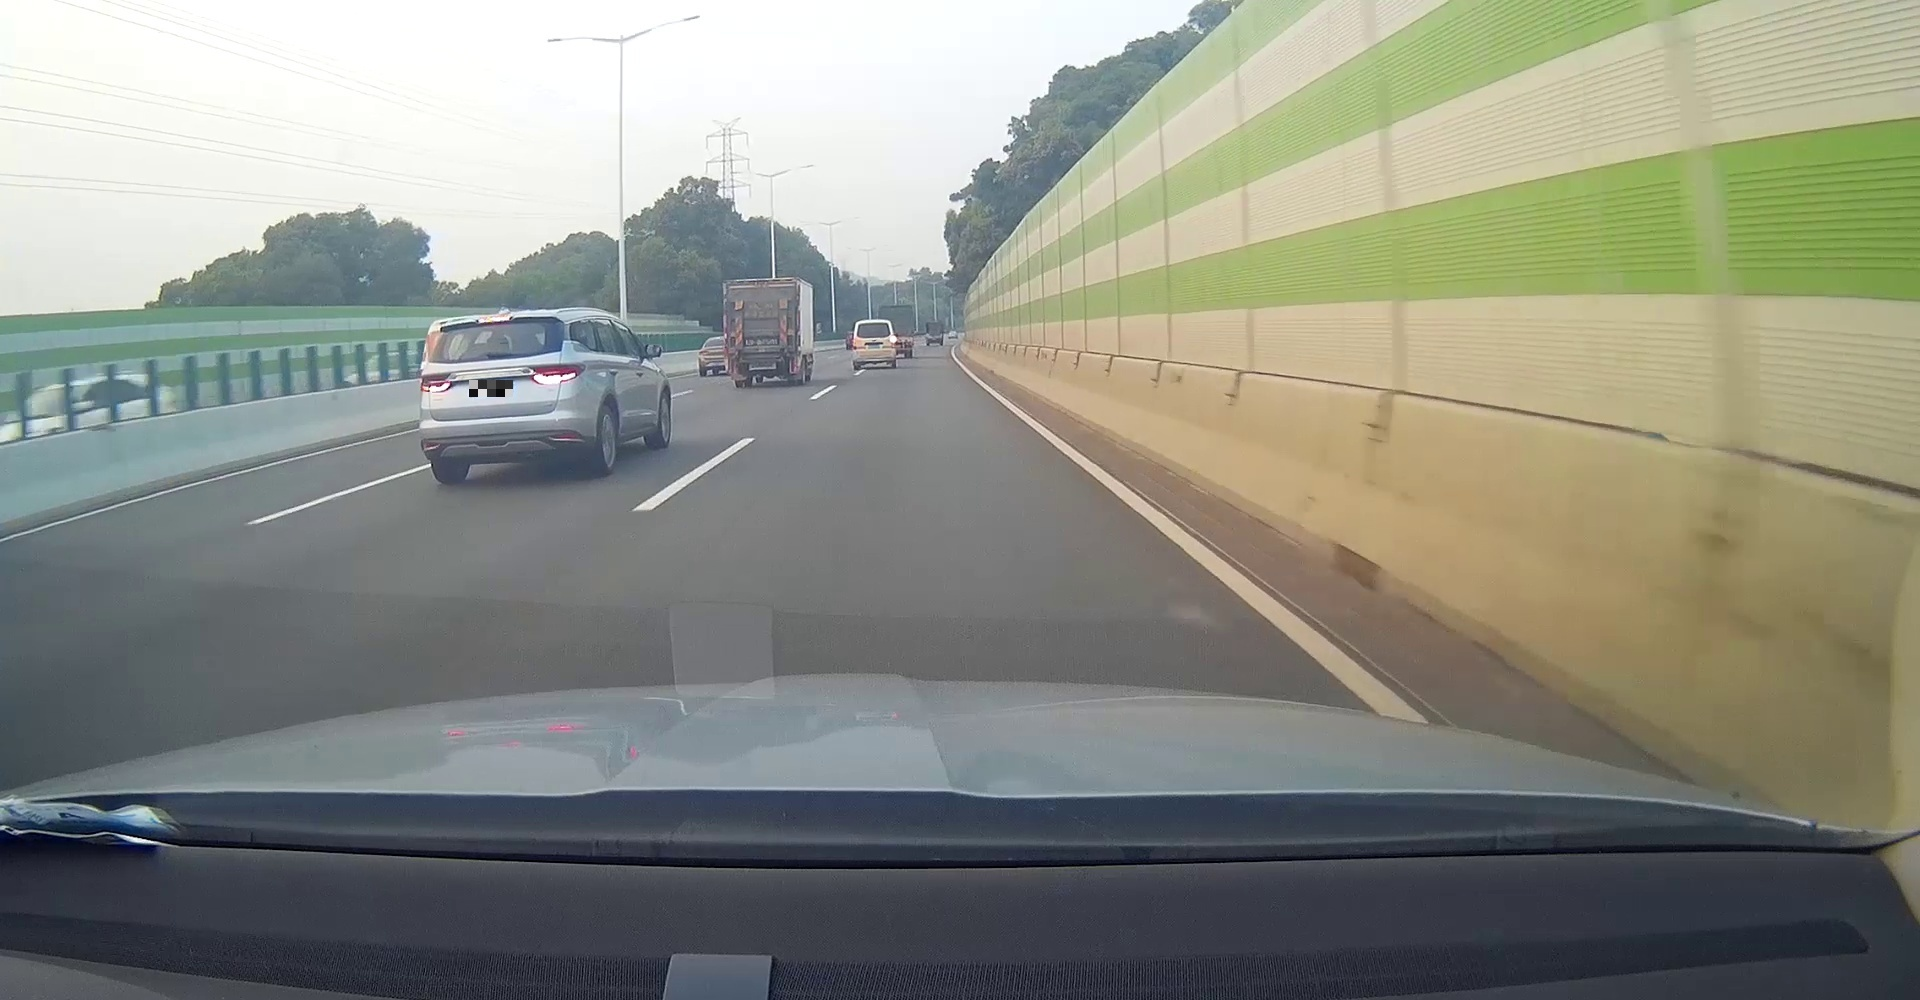L_light: (422, 377, 452, 393), (728, 359, 740, 376), (853, 338, 858, 349)
R_light: (531, 365, 584, 386), (789, 355, 800, 374), (888, 336, 897, 348)
T_light: (477, 315, 513, 324), (752, 280, 771, 286), (869, 321, 879, 324)
day-brake: (419, 308, 592, 486)
day-no: (723, 277, 801, 388)
day-right: (852, 319, 897, 371)
plate_1: (469, 379, 513, 397)
